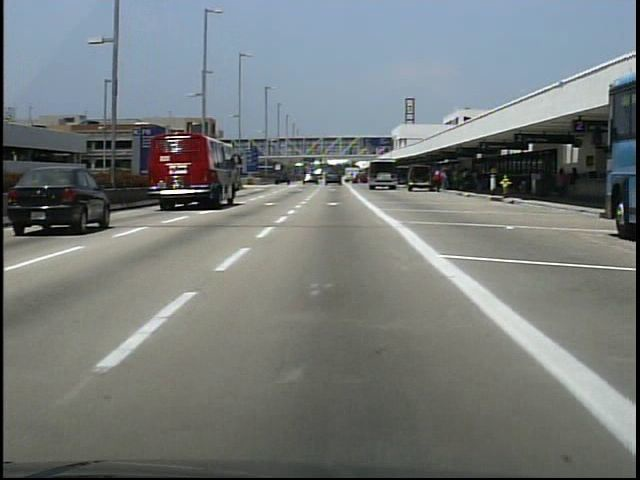person: (436, 173, 445, 197)
